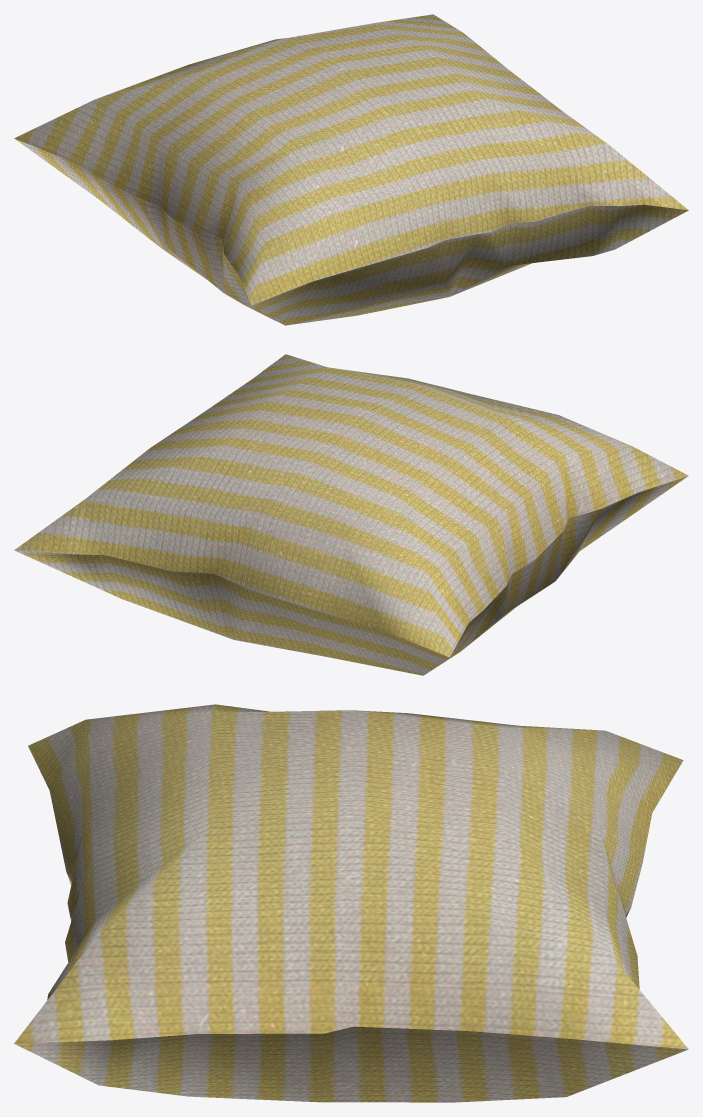
The model's file is Ht_baozhen_05.FBX.
3 renders of one model, top to bottom at view 1: azimuth 30°, elevation 25°; view 2: azimuth 150°, elevation 25°; view 3: azimuth 270°, elevation 25°, orthographic. The views are drawn at different scales.
Parts seen in each view (by area): view 1: Ht_baozhen_05; view 2: Ht_baozhen_05; view 3: Ht_baozhen_05.
Part boxes in pixels (box(x1,y1,x2,y2)): Ht_baozhen_05: box(14, 14, 688, 325); Ht_baozhen_05: box(14, 354, 688, 675); Ht_baozhen_05: box(14, 704, 688, 1102).
Bounding box in the file's own units: 86.03 × 38.96 × 83.22.
